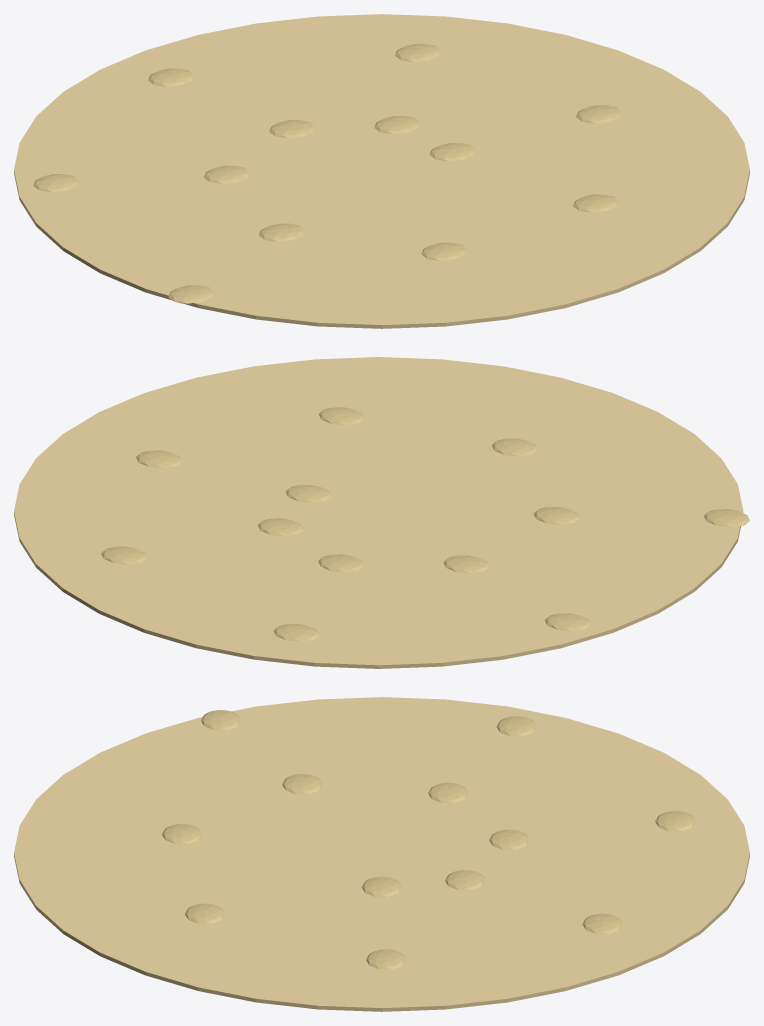
File: Scuba_Seabed.fbx
3 views of the same model, one above another, from view 1: azimuth 30°, elevation 25°; view 2: azimuth 150°, elevation 25°; view 3: azimuth 270°, elevation 25° (orthographic).
Parts seen in each view (by area): view 1: Seabed; view 2: Seabed; view 3: Seabed.
Part boxes in pixels (bbox=[...]): Seabed: bbox=[14, 14, 749, 328]; Seabed: bbox=[14, 357, 749, 668]; Seabed: bbox=[14, 697, 749, 1011].
Size of the model in its own units: 180 by 1.9 by 180.
